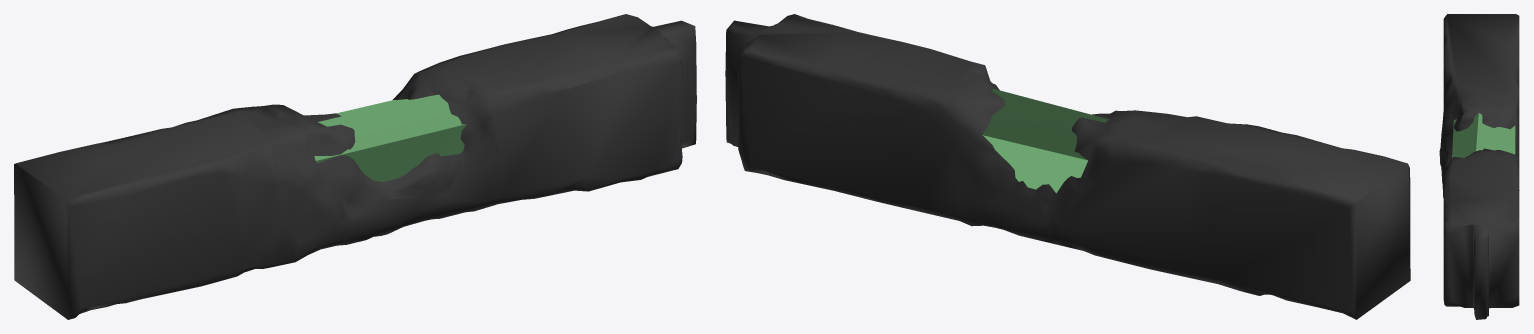
The model's file is SMB_column_C.FBX.
3 views of the same model, side by side, from view 1: azimuth 30°, elevation 25°; view 2: azimuth 150°, elevation 25°; view 3: azimuth 270°, elevation 25° (orthographic). The views are drawn at different scales.
Parts seen in each view (by area): view 1: Group29690; view 2: Group29690; view 3: Group29690.
Boxes of the visible parts, box(x1,y1,x2,y2) form: Group29690: box(14, 14, 696, 319); Group29690: box(725, 14, 1410, 319); Group29690: box(1439, 14, 1519, 319).
Size of the model in its own units: 1735 by 313 by 263.
